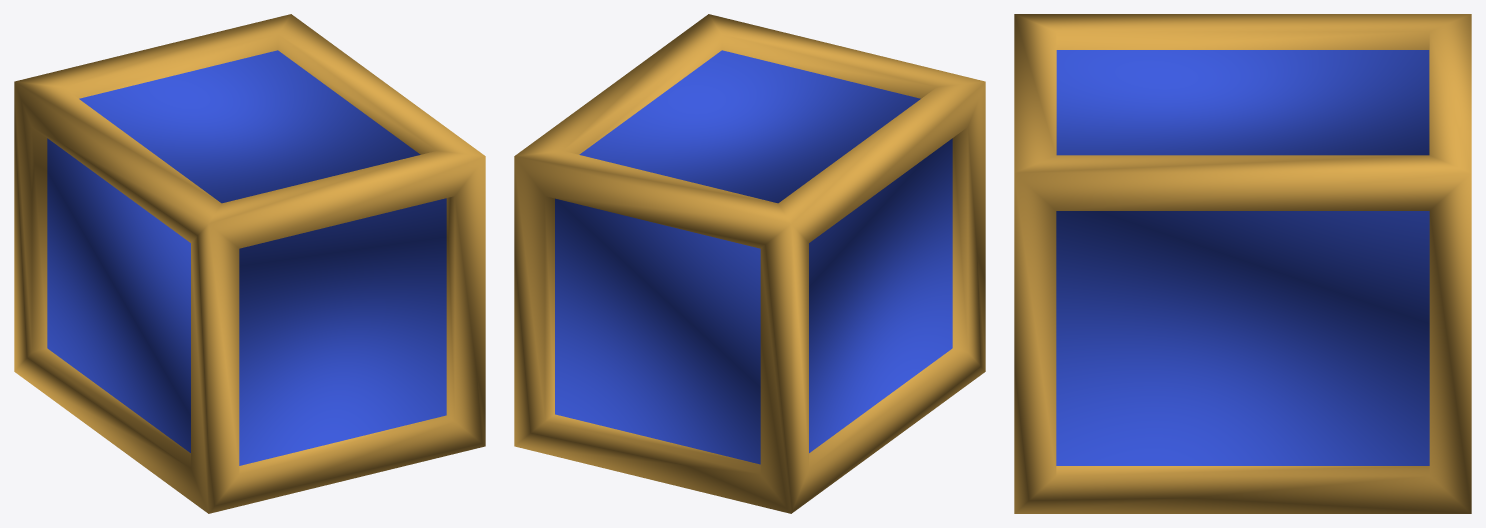
File: BonusBox.fbx
3 views of the same model, side by side, from view 1: azimuth 30°, elevation 25°; view 2: azimuth 150°, elevation 25°; view 3: azimuth 270°, elevation 25° (orthographic). The views are drawn at different scales.
Parts seen in each view (by area): view 1: Cube; view 2: Cube; view 3: Cube.
Boxes of the visible parts, box(x1,y1,x2,y2) form: Cube: box(14, 14, 485, 513); Cube: box(514, 14, 985, 513); Cube: box(1014, 14, 1471, 513).
Bounding box in the file's own units: 200 × 200 × 243.
